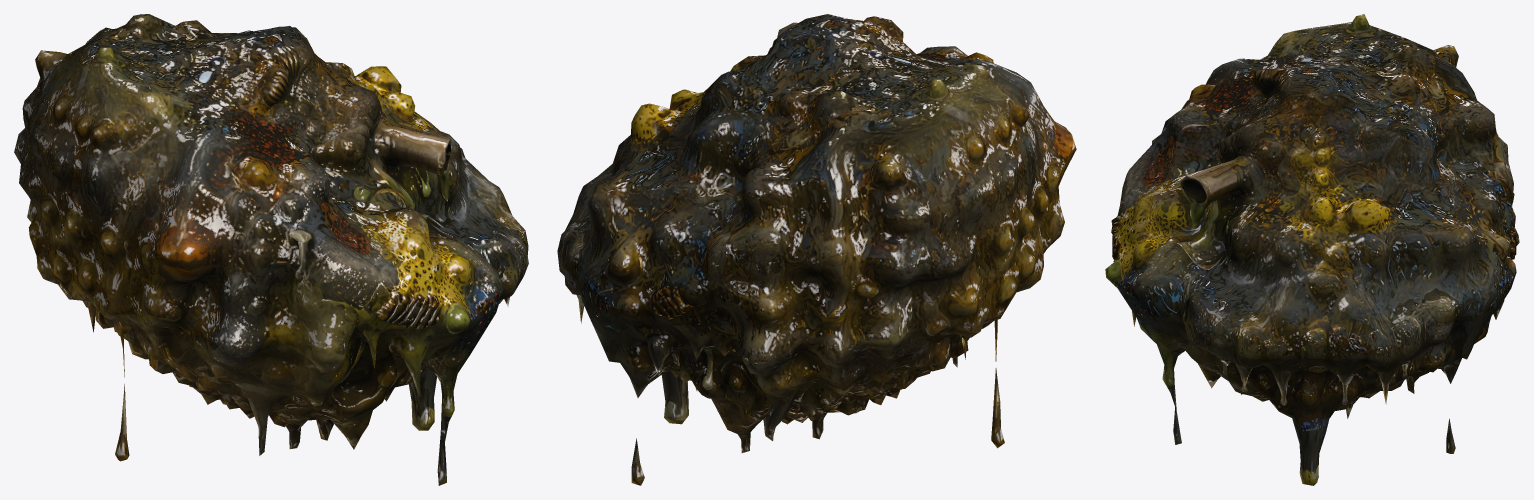
The model's file is sample_sludge.fbx.
3 views of the same model, side by side, from view 1: azimuth 30°, elevation 25°; view 2: azimuth 150°, elevation 25°; view 3: azimuth 270°, elevation 25° (orthographic). The views are drawn at different scales.
Visible parts, largest first — view 1: input; view 2: input; view 3: input.
Part boxes in pixels (box(x1,y1,x2,y2)): input: box(14, 14, 528, 485); input: box(557, 14, 1076, 485); input: box(1105, 14, 1519, 485).
Size of the model in its own units: 97.7 by 93.48 by 99.16.
1 material, 1 textured.
